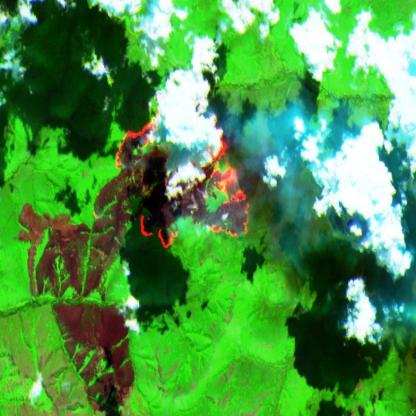fire: (112, 104, 256, 256)
